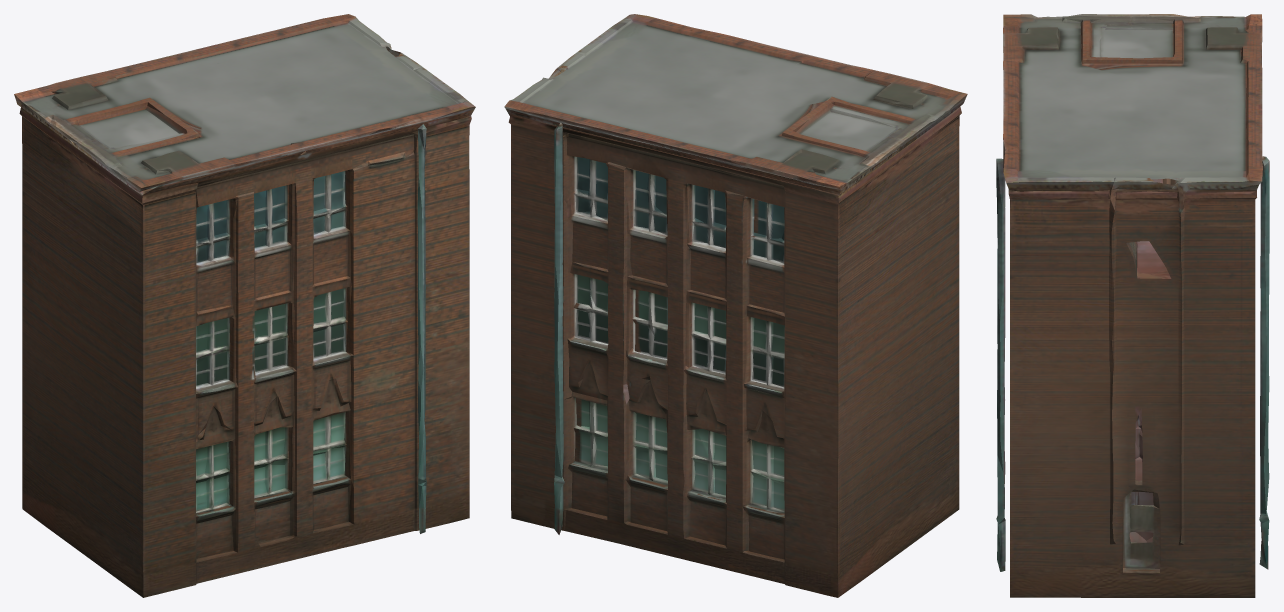
File: building_000_export.fbx
3 views of the same model, side by side, from view 1: azimuth 30°, elevation 25°; view 2: azimuth 150°, elevation 25°; view 3: azimuth 270°, elevation 25° (orthographic).
Parts seen in each view (by area): view 1: building_low; view 2: building_low; view 3: building_low.
Part boxes in pixels (left/top/right/bottom): building_low: left=14, top=14, right=475, bottom=597; building_low: left=504, top=14, right=967, bottom=597; building_low: left=996, top=14, right=1269, bottom=597.
Size of the model in its own units: 1.63 by 1.92 by 1.13.
Materials: 1 (1 with a texture image).
